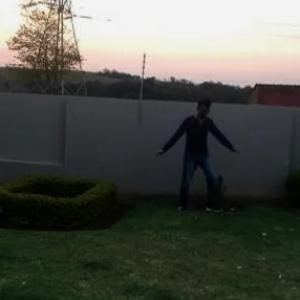land: (156, 105, 238, 219)
